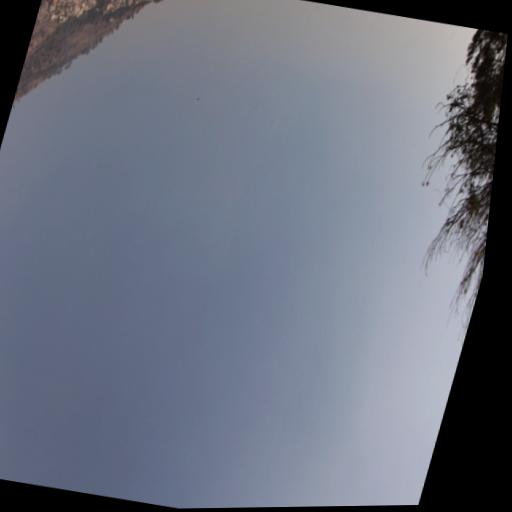drones: (196, 96, 200, 102)
